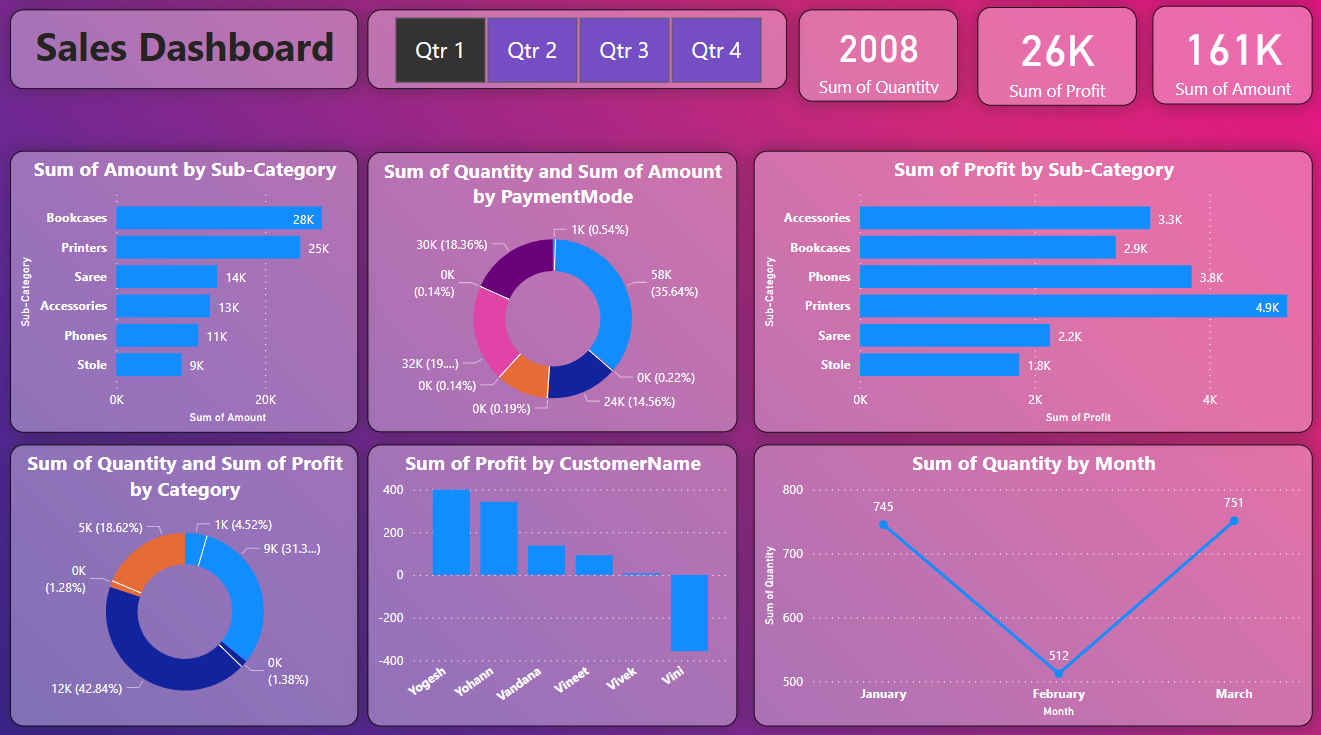

What the dashboard file says about the page in this screenshot:
{"tool":"powerbi","page":{"name":"Page 1","canvas":[1280,720],"ordinal":0},"visuals":[{"type":"textbox","box":[9.4,12.1,336.3,76.7],"z":0},{"type":"lineChart","fields":{"Category":["Orders.Order Date.Variation.Date Hierarchy.Month"],"Y":["Sum(Details.Quantity)"]},"box":[727.7,431.8,539.4,271.7],"z":1000},{"type":"barChart","fields":{"Y":["Sum(Details.Profit)"],"Category":["Details.Sub-Category","Orders.Order Date.Variation.Date Hierarchy.Year","Orders.Order Date.Variation.Date Hierarchy.Quarter","Orders.Order Date.Variation.Date Hierarchy.Month","Orders.Order Date.Variation.Date Hierarchy.Day"]},"box":[727.7,148,539.4,271.7],"z":2000},{"type":"donutChart","fields":{"Y":["Sum(Details.Quantity)","Sum(Details.Profit)"],"Category":["Details.Category"]},"box":[9.4,431.8,336.3,271.7],"z":3000},{"type":"donutChart","fields":{"Y":["Sum(Details.Quantity)","Sum(Details.Amount)"],"Category":["Details.PaymentMode"]},"box":[355.1,149.3,356.5,270.4],"z":4000},{"type":"card","fields":{"Values":["Sum(Details.Amount)"]},"box":[1112.4,8.1,154.7,95.5],"z":5000},{"type":"card","fields":{"Values":["Sum(Details.Profit)"]},"box":[942.9,9.4,153.3,95.5],"z":6000},{"type":"card","fields":{"Values":["Sum(Details.Quantity)"]},"box":[770.7,12.1,153.3,88.8],"z":7000},{"type":"barChart","fields":{"Y":["Sum(Details.Amount)"],"Category":["Details.Sub-Category"]},"box":[9.4,148,336.3,271.7],"z":8000},{"type":"lineStackedColumnComboChart","fields":{"Category":["Orders.CustomerName"],"Y":["Sum(Details.Profit)"]},"box":[355.1,431.8,356.5,271.7],"z":9000},{"type":"slicer","fields":{"Values":["Orders.Order Date.Variation.Date Hierarchy.Quarter"]},"box":[355.1,12.1,404.9,76.7],"z":10000}]}

Visuals, with their boxes in screenshot pixels (x1, y1, x2, y2), scaled from the page's 1280x720 canvas onto the 1321x735 screenshot:
textbox: {"x1": 10, "y1": 12, "x2": 357, "y2": 91}
lineChart - Orders.Order Date.Variation.Date Hierarchy.Month x Sum(Details.Quantity): {"x1": 751, "y1": 441, "x2": 1308, "y2": 718}
barChart - Sum(Details.Profit) x Details.Sub-Category: {"x1": 751, "y1": 151, "x2": 1308, "y2": 428}
donutChart - Sum(Details.Quantity) x Sum(Details.Profit): {"x1": 10, "y1": 441, "x2": 357, "y2": 718}
donutChart - Sum(Details.Quantity) x Sum(Details.Amount): {"x1": 366, "y1": 152, "x2": 734, "y2": 428}
card - Sum(Details.Amount): {"x1": 1148, "y1": 8, "x2": 1308, "y2": 106}
card - Sum(Details.Profit): {"x1": 973, "y1": 10, "x2": 1131, "y2": 107}
card - Sum(Details.Quantity): {"x1": 795, "y1": 12, "x2": 954, "y2": 103}
barChart - Sum(Details.Amount) x Details.Sub-Category: {"x1": 10, "y1": 151, "x2": 357, "y2": 428}
lineStackedColumnComboChart - Orders.CustomerName x Sum(Details.Profit): {"x1": 366, "y1": 441, "x2": 734, "y2": 718}
slicer - Orders.Order Date.Variation.Date Hierarchy.Quarter: {"x1": 366, "y1": 12, "x2": 784, "y2": 91}
